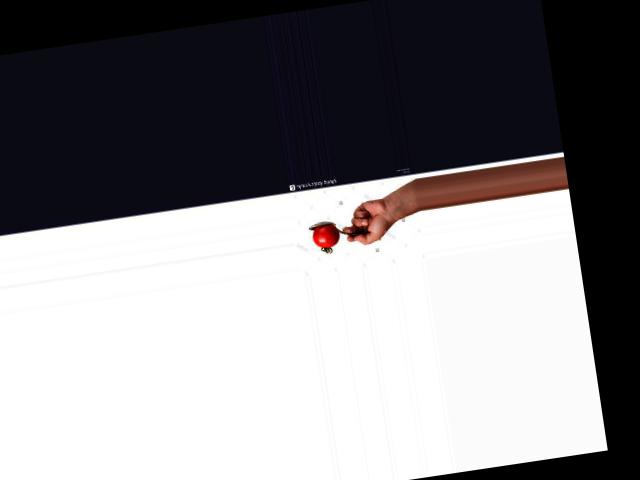tomato: (312, 223, 341, 249)
